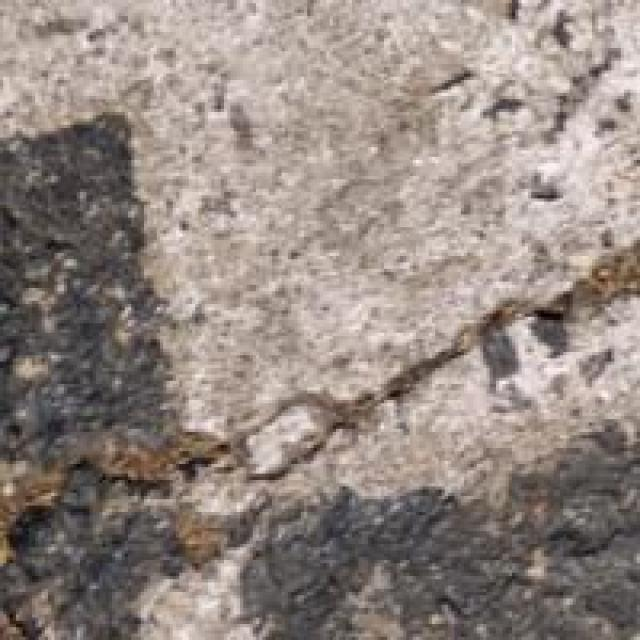Crack: (6, 231, 637, 564)
